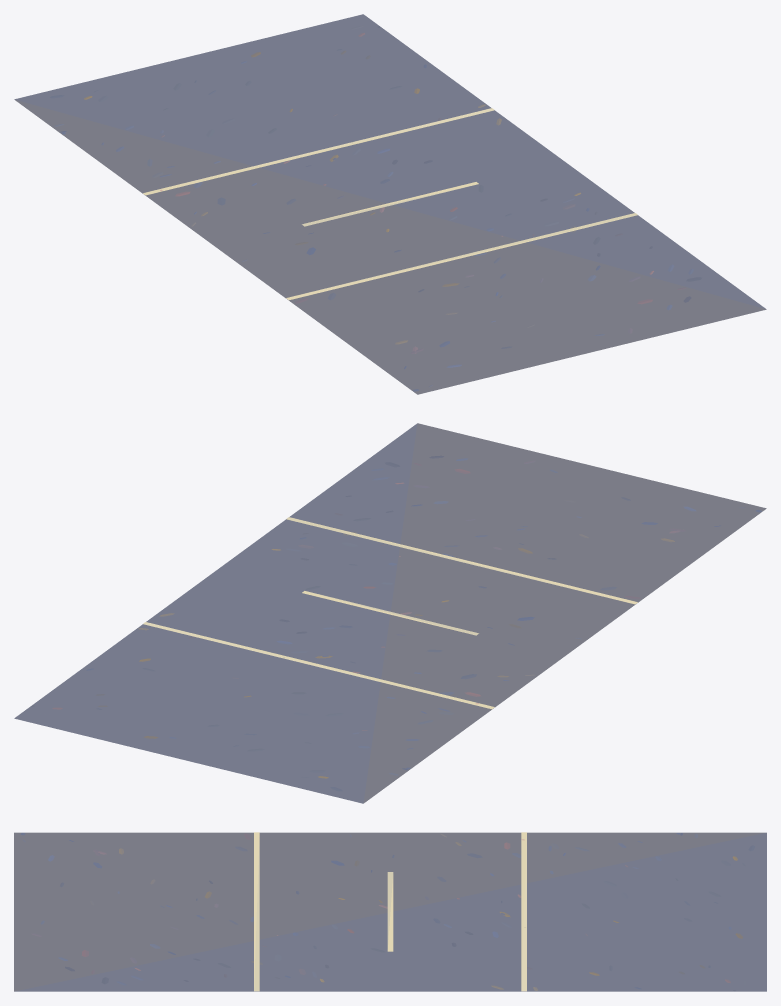
File: HK_RoadSurf_Straight.glb
3 views of the same model, one above another, from view 1: azimuth 30°, elevation 25°; view 2: azimuth 150°, elevation 25°; view 3: azimuth 270°, elevation 25° (orthographic). The views are drawn at different scales.
Parts seen in each view (by area): view 1: HK_RoadSurf_Straight; view 2: HK_RoadSurf_Straight; view 3: HK_RoadSurf_Straight.
Part boxes in pixels (x1,y1,x2,y2): HK_RoadSurf_Straight: (14,14,766,394); HK_RoadSurf_Straight: (14,423,766,803); HK_RoadSurf_Straight: (14,832,766,991).
Bounding box in the file's own units: 10 × 0.0135 × 20.
